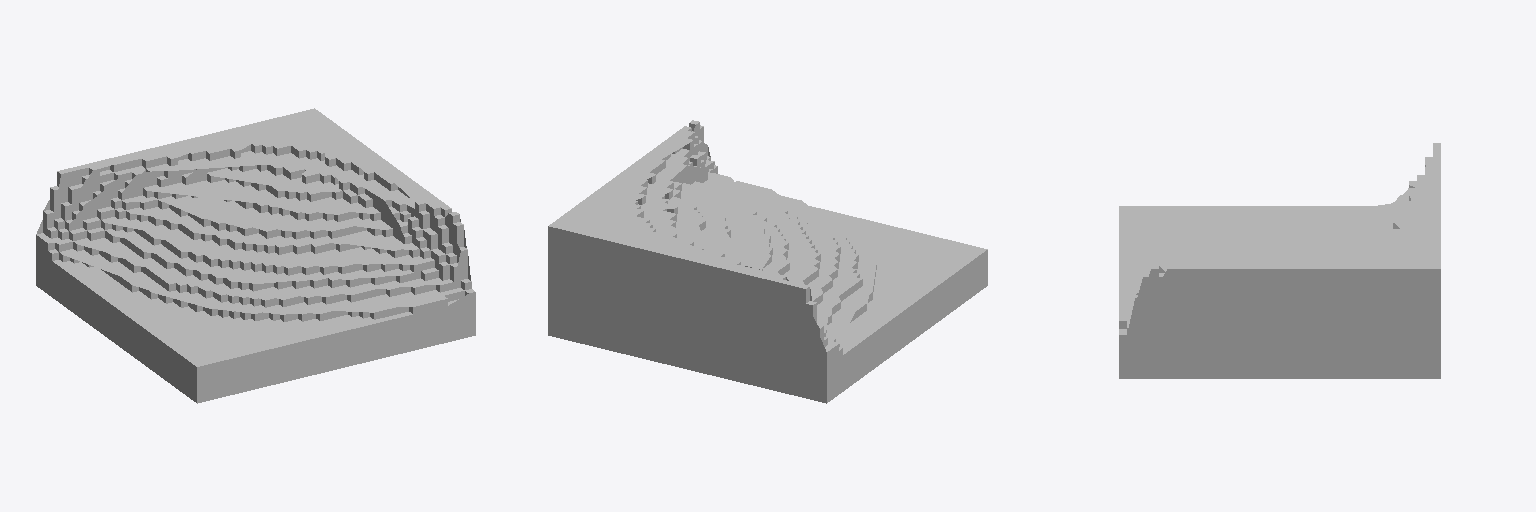
Rendered from ElevPru.obj.
3 renders of one model, left to right at view 1: azimuth 30°, elevation 25°; view 2: azimuth 150°, elevation 25°; view 3: azimuth 270°, elevation 25°, orthographic.
Parts seen in each view (by area): view 1: Untitled; view 2: Untitled; view 3: Untitled.
Part boxes in pixels (x1,y1,x2,y2): Untitled: (36,108,475,403); Untitled: (548,120,987,403); Untitled: (1119,143,1440,378).
Size of the model in its own units: 4 by 1.5 by 4.